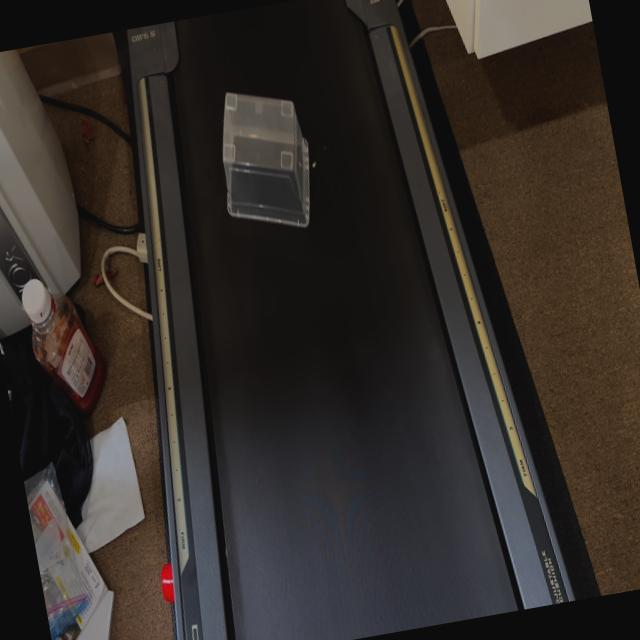Trash: (208, 77, 338, 236)
